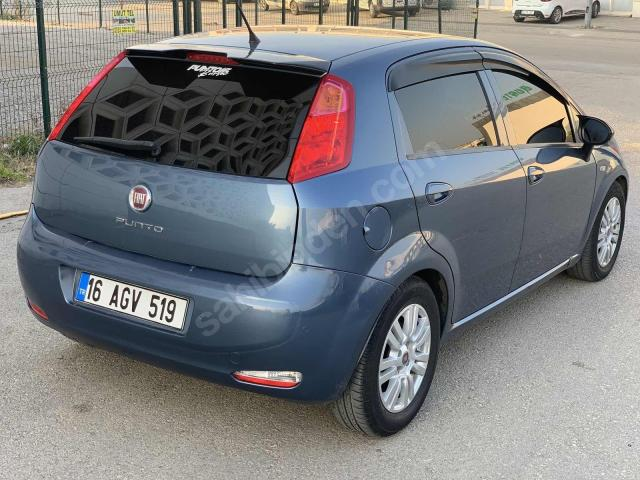plaka: (74, 272, 189, 330)
